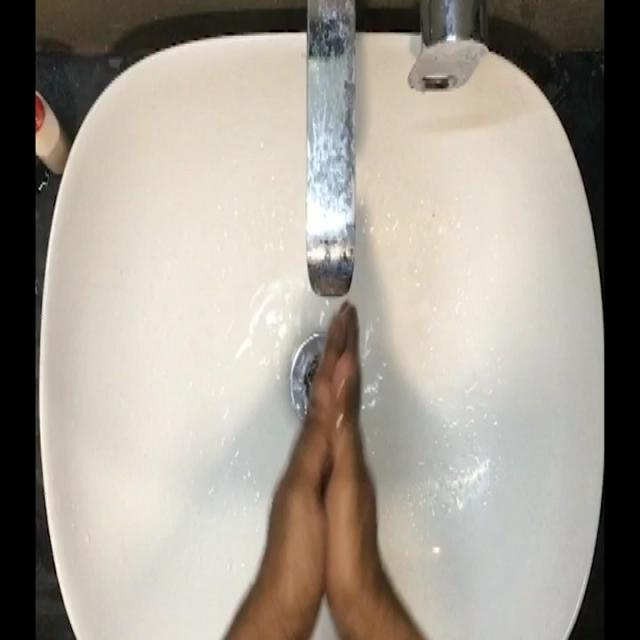step_1: (260, 292, 387, 605)
